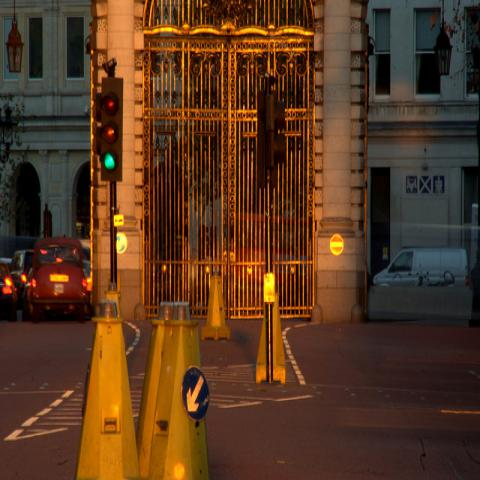car: (23, 238, 91, 320), (9, 249, 37, 310), (0, 259, 19, 322), (84, 239, 90, 261)
truck: (373, 246, 467, 290)
